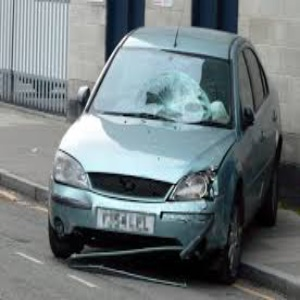bumper: (61, 216, 204, 282)
front_windshield_glass: (119, 54, 227, 128)
head_lights: (170, 163, 220, 204)
